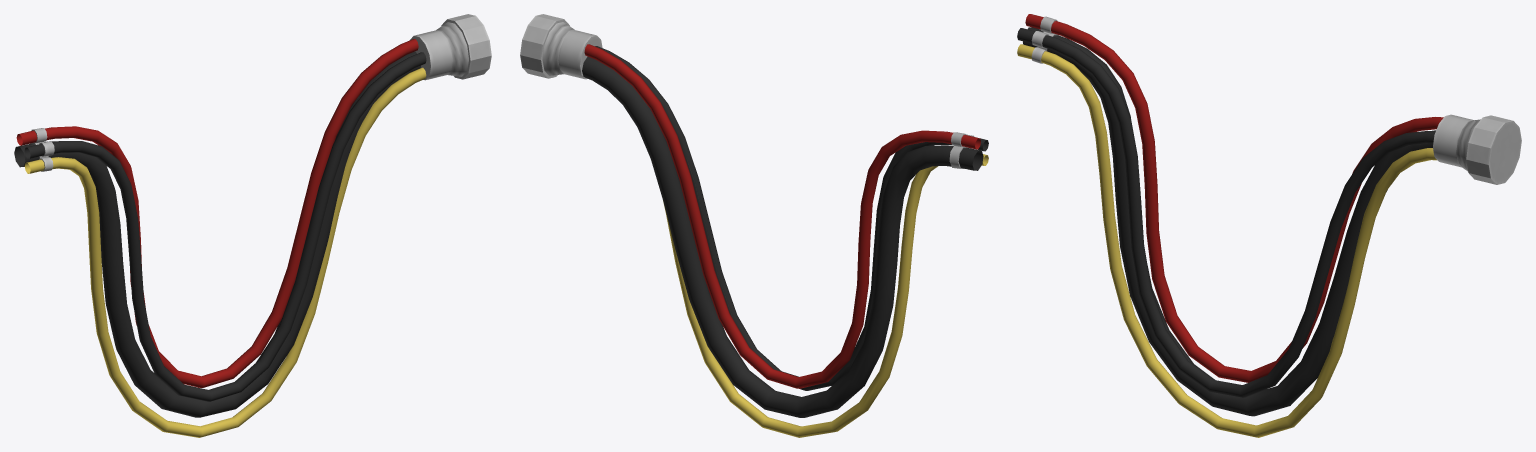
The model's file is ElectricalWires03_12.glb.
3 views of the same model, side by side, from view 1: azimuth 30°, elevation 25°; view 2: azimuth 150°, elevation 25°; view 3: azimuth 330°, elevation 25° (orthographic). The views are drawn at different scales.
Visible parts, largest first — view 1: NurbsPath_012; view 2: NurbsPath_012; view 3: NurbsPath_012.
Boxes of the visible parts, <box> form: NurbsPath_012: <box>14,14,491,437</box>; NurbsPath_012: <box>520,14,988,437</box>; NurbsPath_012: <box>1017,14,1521,437</box>.
Bounding box in the file's own units: 2.34 × 1.77 × 0.2795.
Materials: 1 (1 with a texture image).
